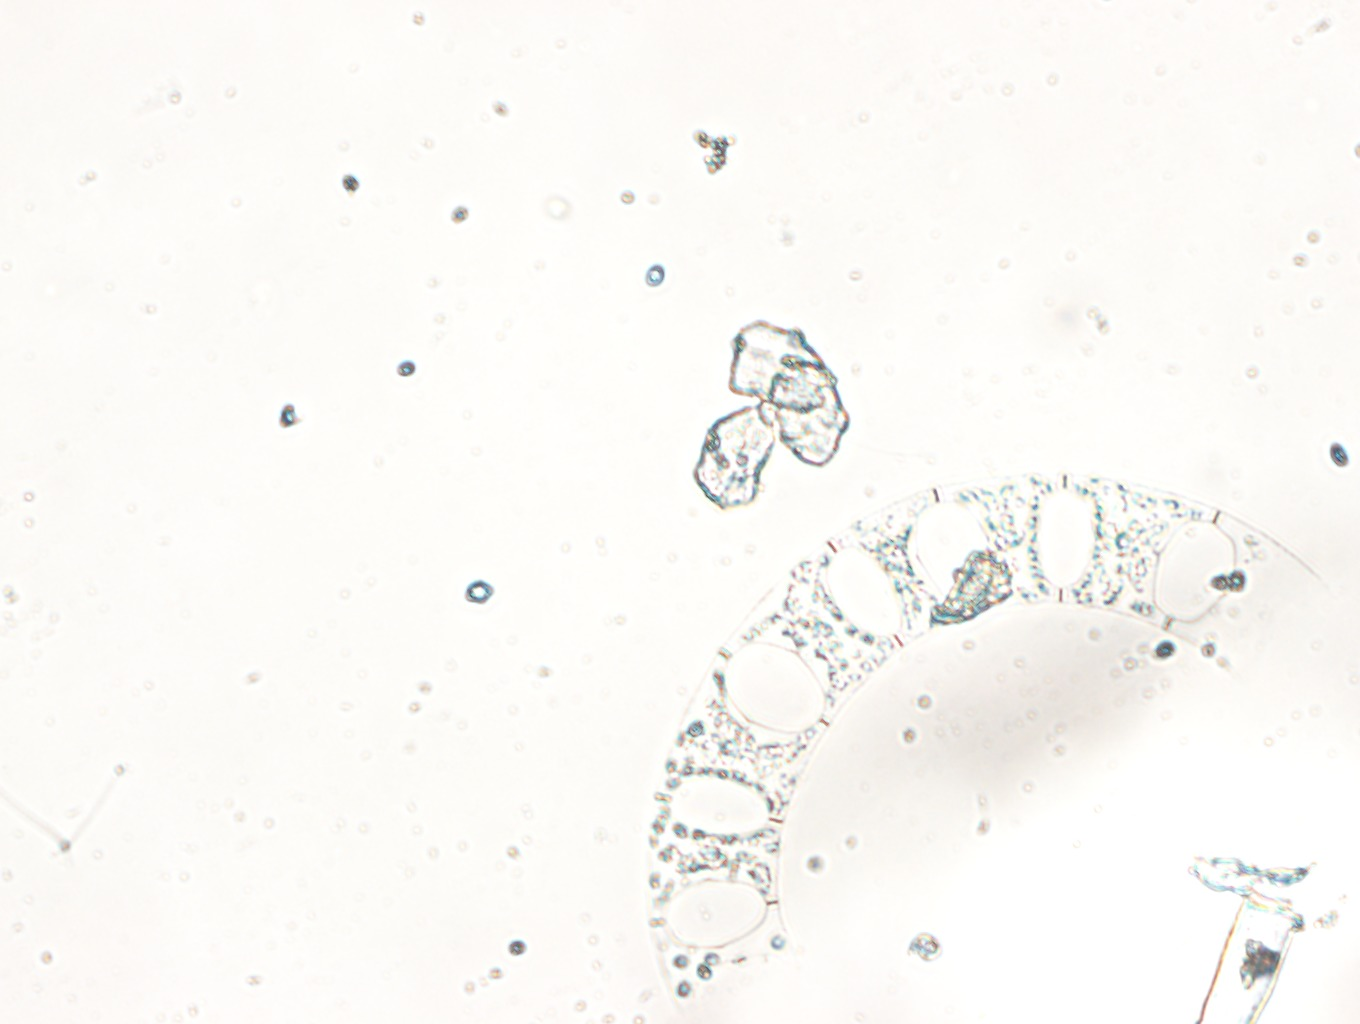eucampia: (646, 484, 1313, 1002)
